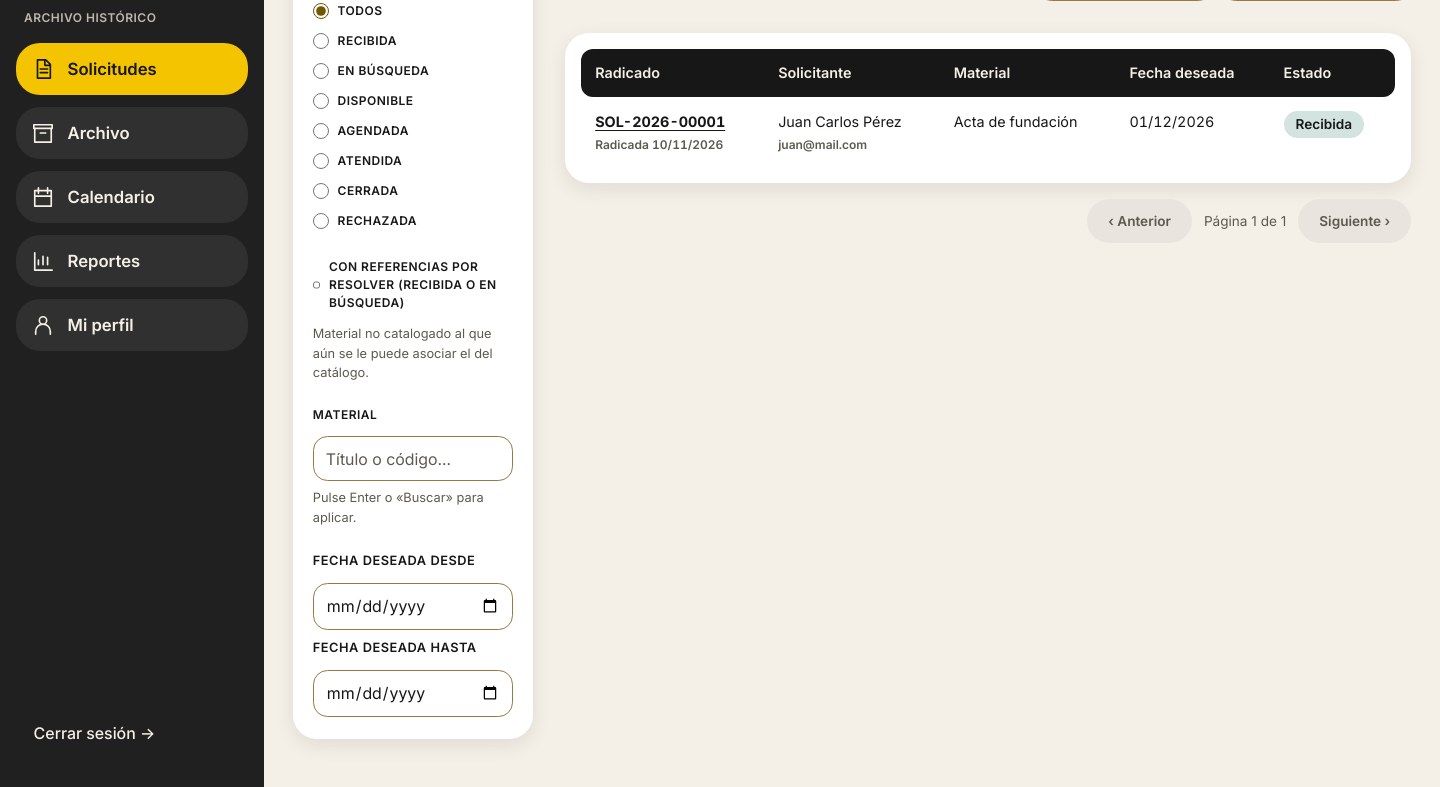
Test case: RequestsListPage › shows «Quitar filtros» only when a filter is set
(page scrolled)
Expected: the table is shown, top-left (565, 32), bottom-right (1411, 183)
Expected: the button "Quitar filtros" is not shown
Type "2026-12-05" into the date field labelled "Fecha deseada desde" at (413,606), box top-left (313, 583), bottom-right (513, 630)
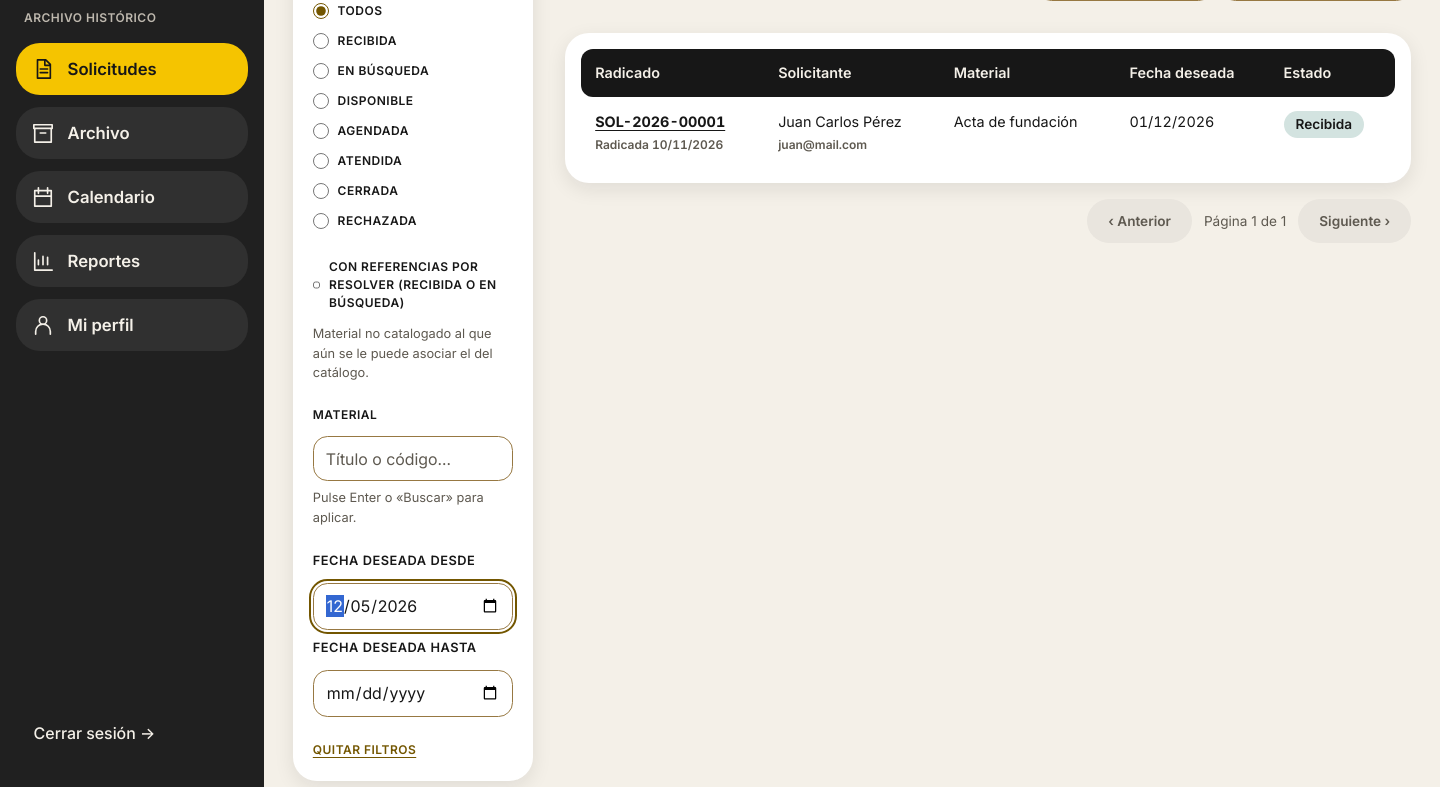
Expected: the button "Quitar filtros" is shown, top-left (313, 741), bottom-right (416, 759)
